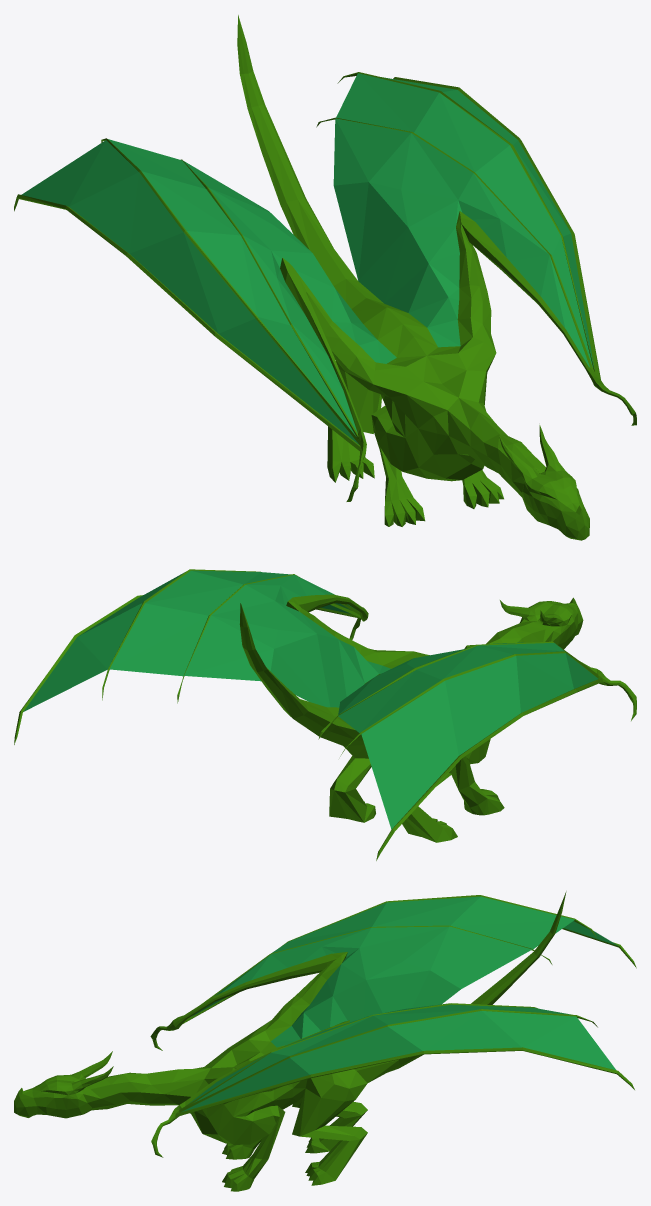
File: dragon.obj
The picture shows the model from 3 angles, top to bottom: view 1: azimuth 30°, elevation 25°; view 2: azimuth 150°, elevation 25°; view 3: azimuth 270°, elevation 25°; orthographic projection. The views are drawn at different scales.
Visible parts, largest first — view 1: Body; view 2: Body; view 3: Body.
Part boxes in pixels (x1,y1,x2,y2): Body: [14, 15, 636, 540]; Body: [14, 569, 636, 860]; Body: [14, 891, 636, 1191].
Size of the model in its own units: 3 by 2.53 by 5.11.
